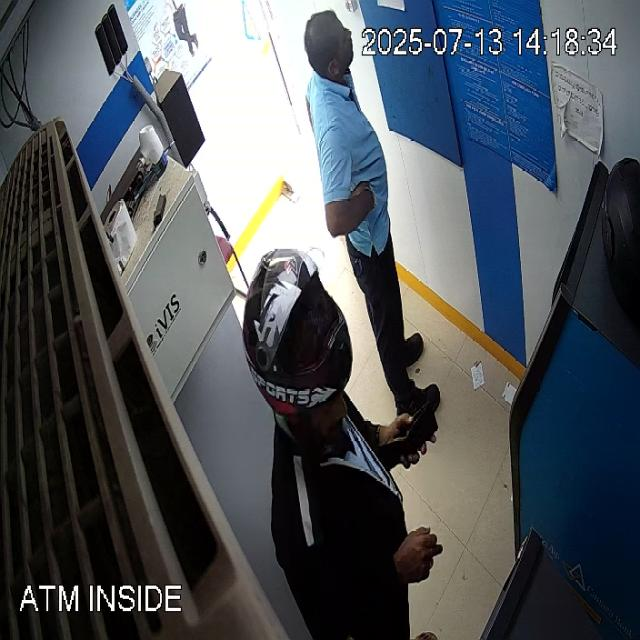helmet: (240, 247, 352, 416)
no_helmet: (304, 10, 353, 82)
